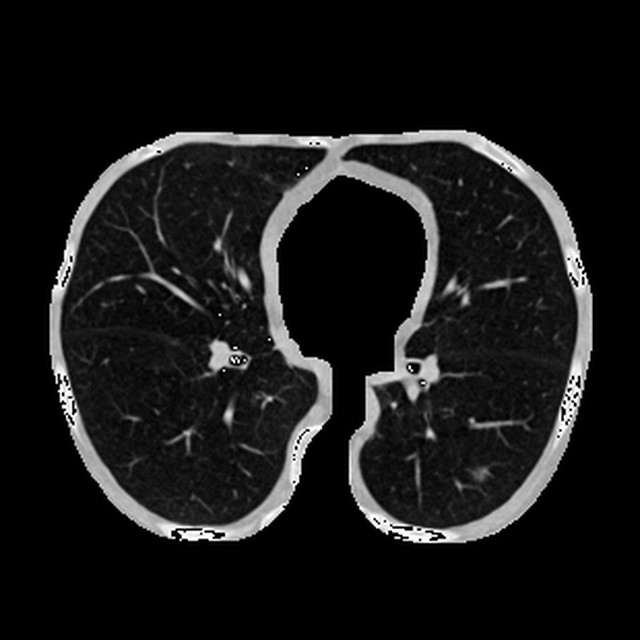PN: (471, 465, 487, 481)
